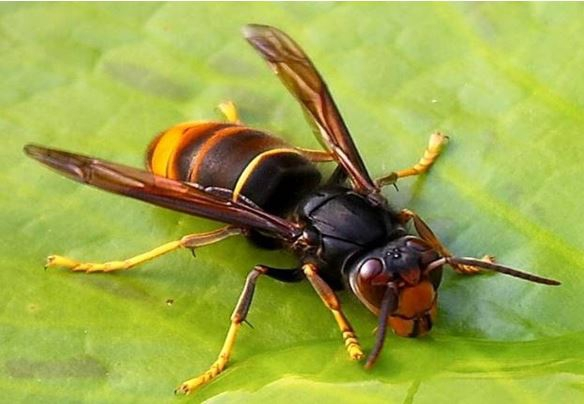hornet: (64, 42, 500, 373)
